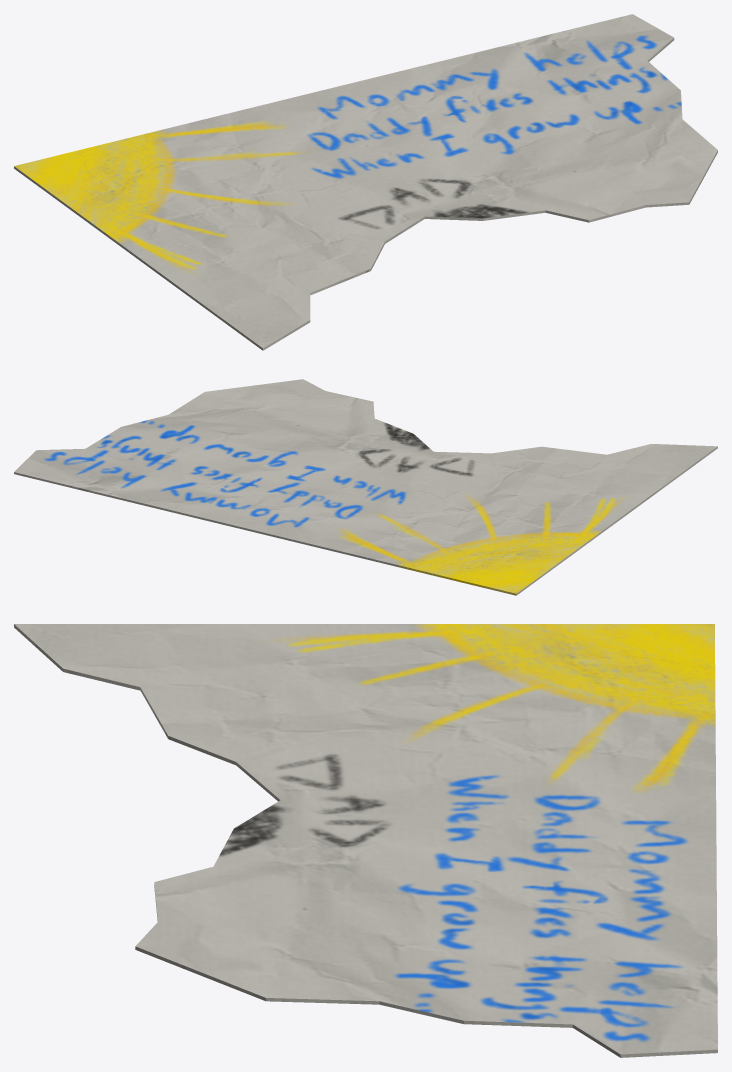
Rendered from DrawingFragments1.fbx.
3 renders of one model, top to bottom at view 1: azimuth 30°, elevation 25°; view 2: azimuth 150°, elevation 25°; view 3: azimuth 270°, elevation 25°, orthographic. The views are drawn at different scales.
Visible parts, largest first — view 1: Fragment_1; view 2: Fragment_1; view 3: Fragment_1.
Boxes of the visible parts, x1=… form: Fragment_1: x1=14, y1=14, x2=717, y2=350; Fragment_1: x1=14, y1=379, x2=717, y2=595; Fragment_1: x1=14, y1=624, x2=717, y2=1057.
Bounding box in the file's own units: 327 × 1.22 × 226.
